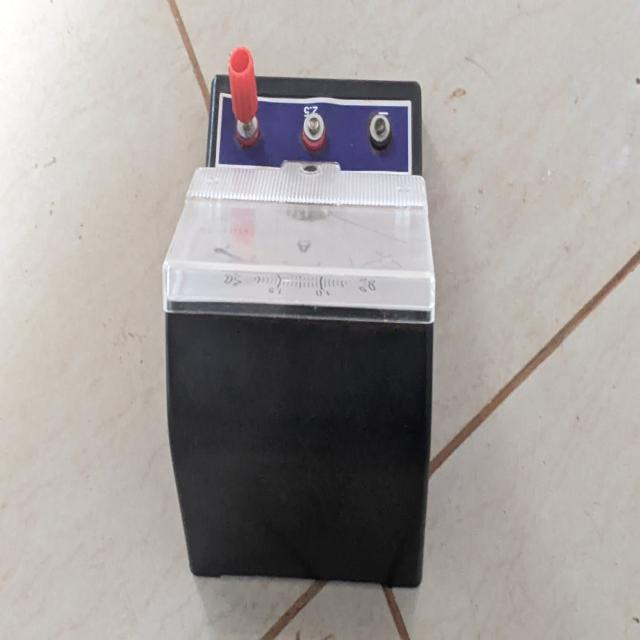Ammeter Analog: (160, 42, 443, 600)
